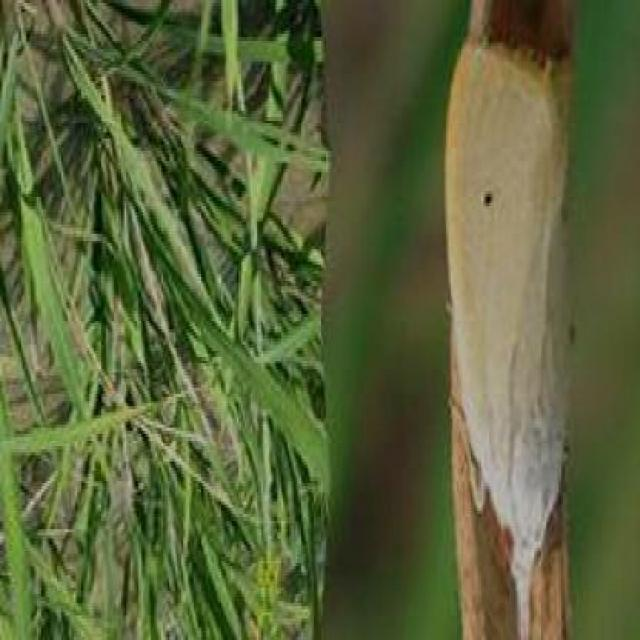stem-borer: (440, 31, 577, 640)
